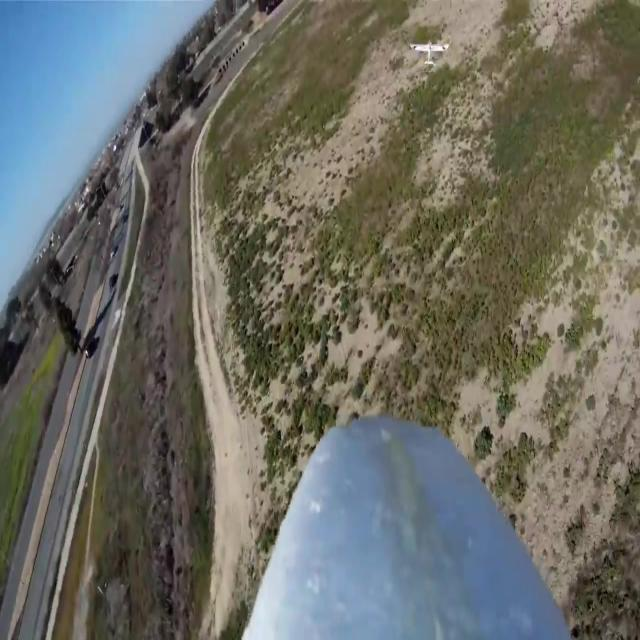iha: (408, 36, 450, 67)
